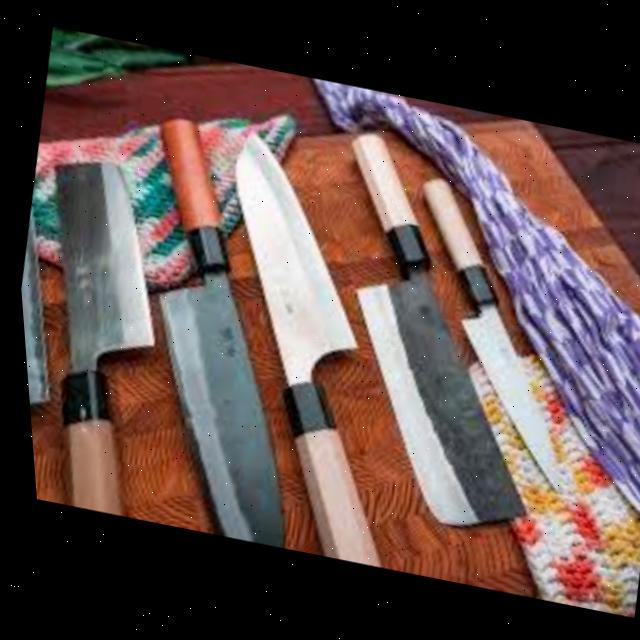Knife: (158, 128, 467, 572), (278, 124, 586, 539), (81, 113, 359, 550), (363, 171, 618, 496), (9, 148, 194, 519), (5, 92, 105, 449)
